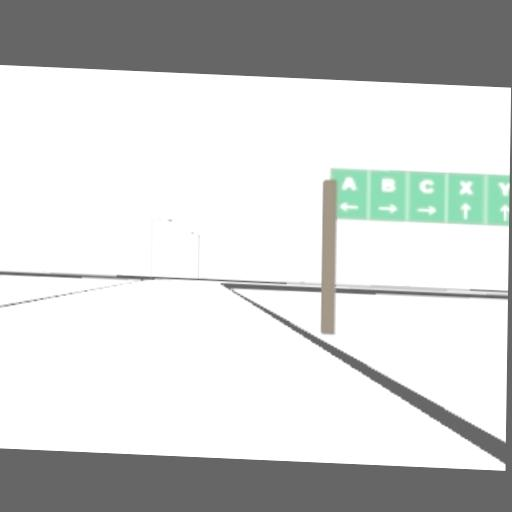A: (341, 175, 356, 188)
B: (381, 177, 396, 190)
C: (419, 177, 434, 193)
Left: (339, 202, 359, 210)
Right: (376, 202, 397, 213), (416, 204, 436, 215)
Straight: (459, 201, 469, 219), (499, 204, 509, 219)
X: (458, 179, 473, 193)
Y: (496, 181, 509, 194)
